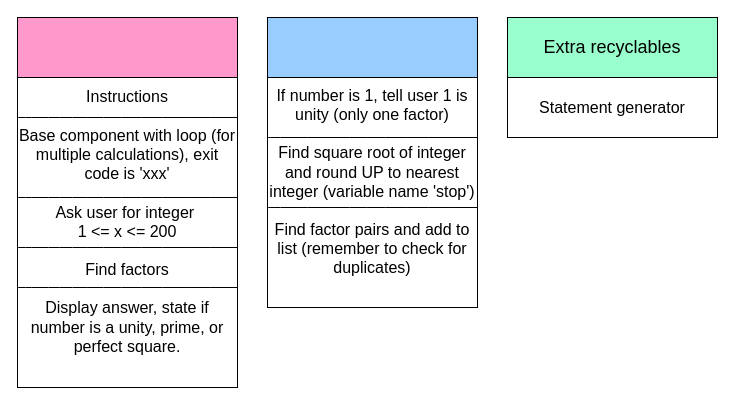
Some shapes in this 735 by 405 pixel diagram are drawn without their labels. The centre of each missing label's shape, as x and y in pixels:
Decomposition: the point at 127,47
Find factors: the point at 372,47
